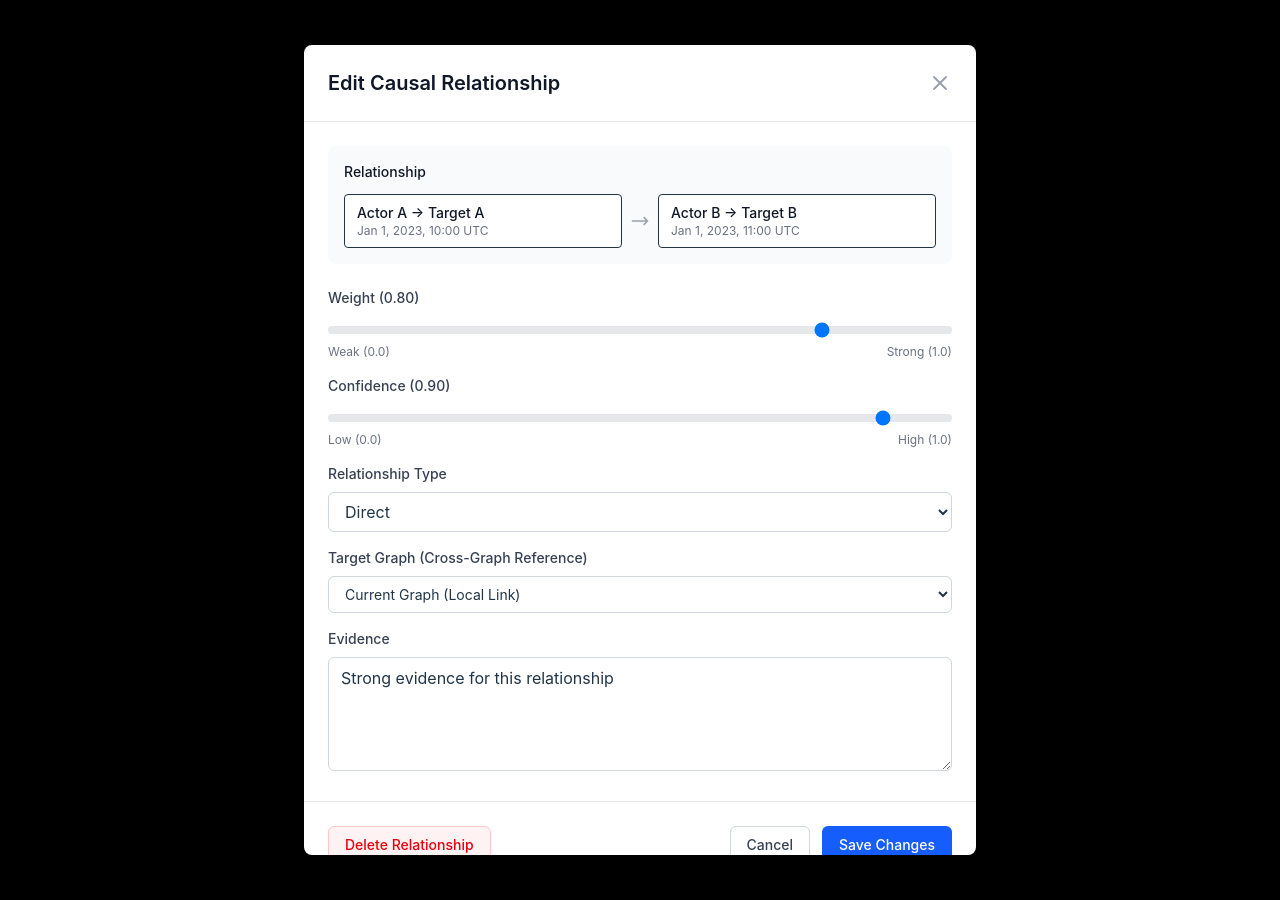
it: CausalRelationshipModal › should update weight value when slider is moved
Set the slider showing "0.8" below "Weight (" to "0.6" at (701, 330), box 328,326 -> 952,334
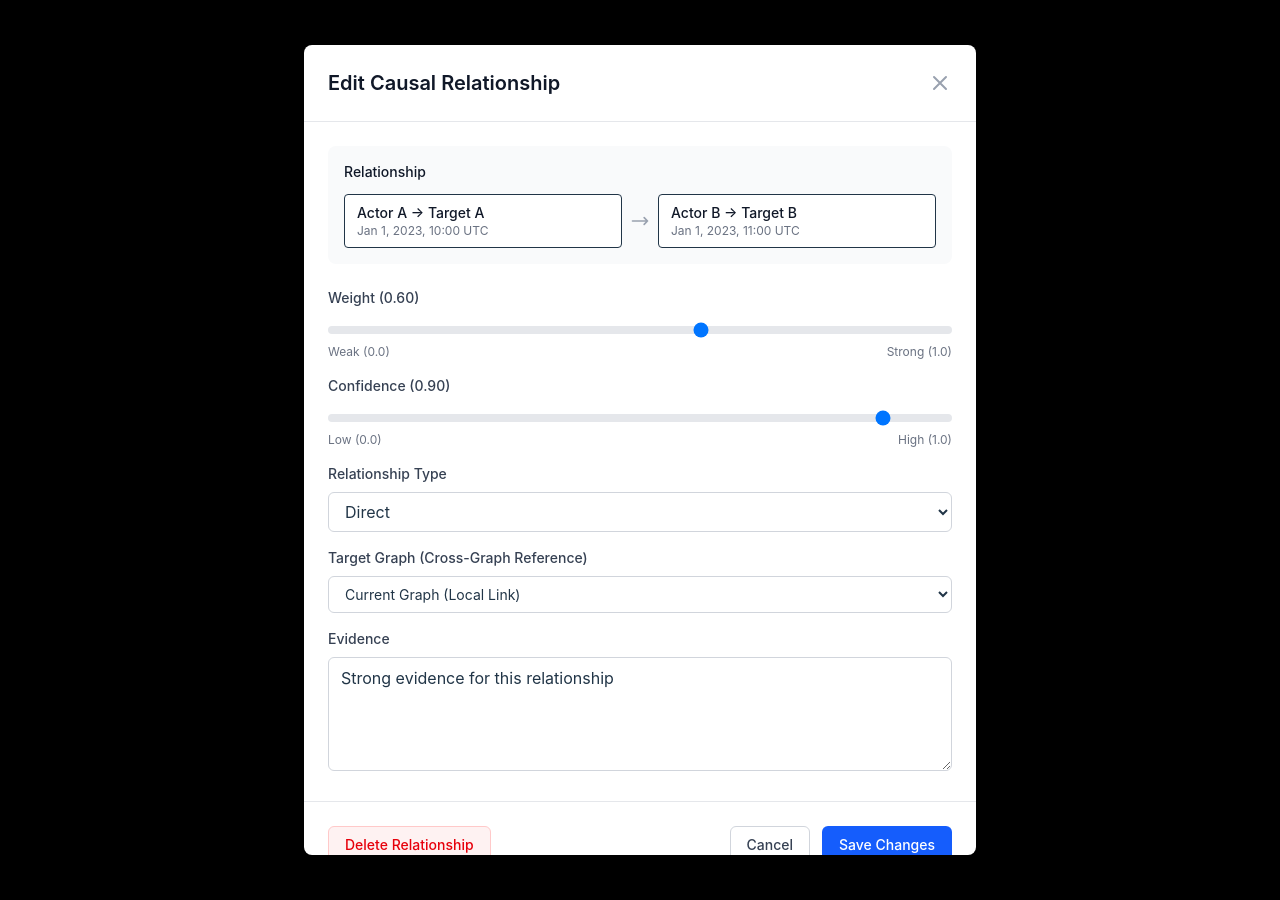
Expected: the text "Weight (0.60)" is shown, 328,289 -> 419,306
